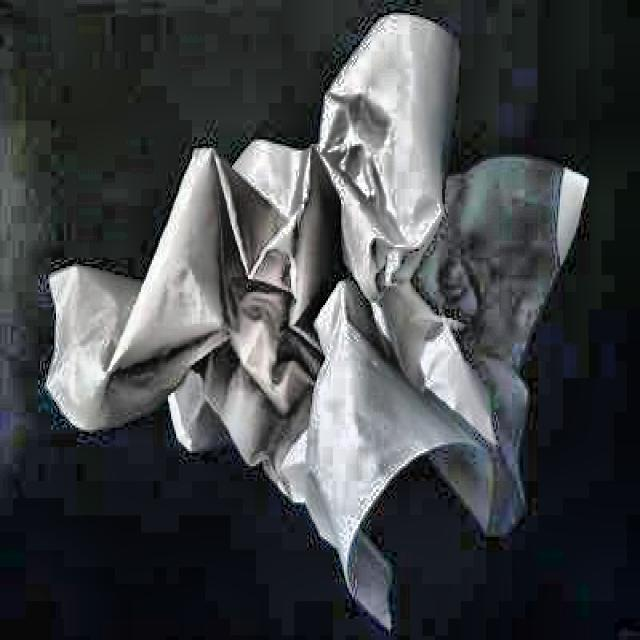Paper: (31, 0, 592, 620)
